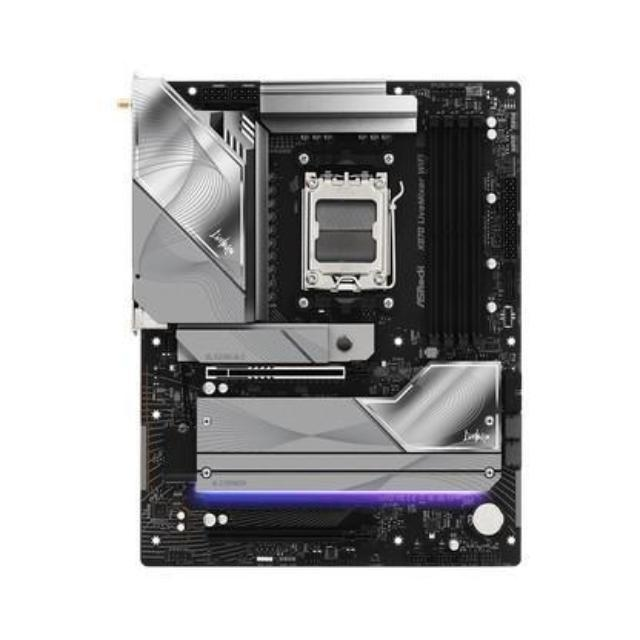Mainboard: (114, 66, 531, 574)
